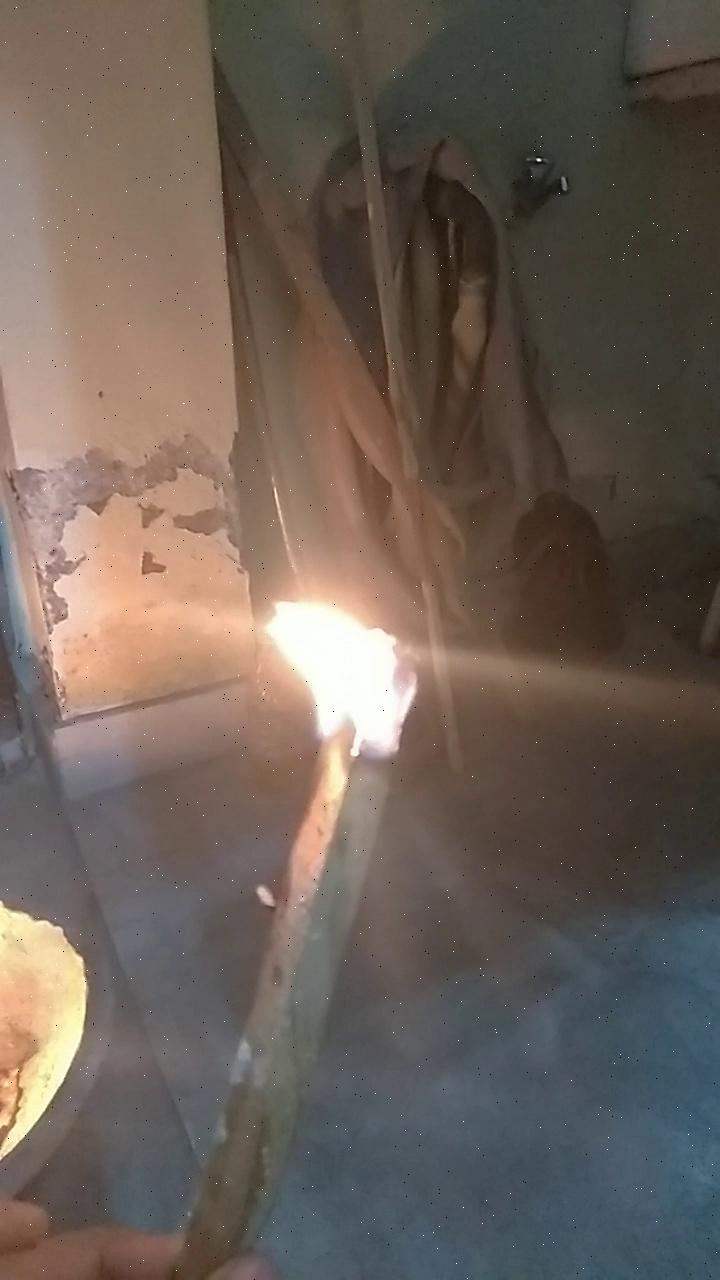fire: (250, 557, 481, 812)
